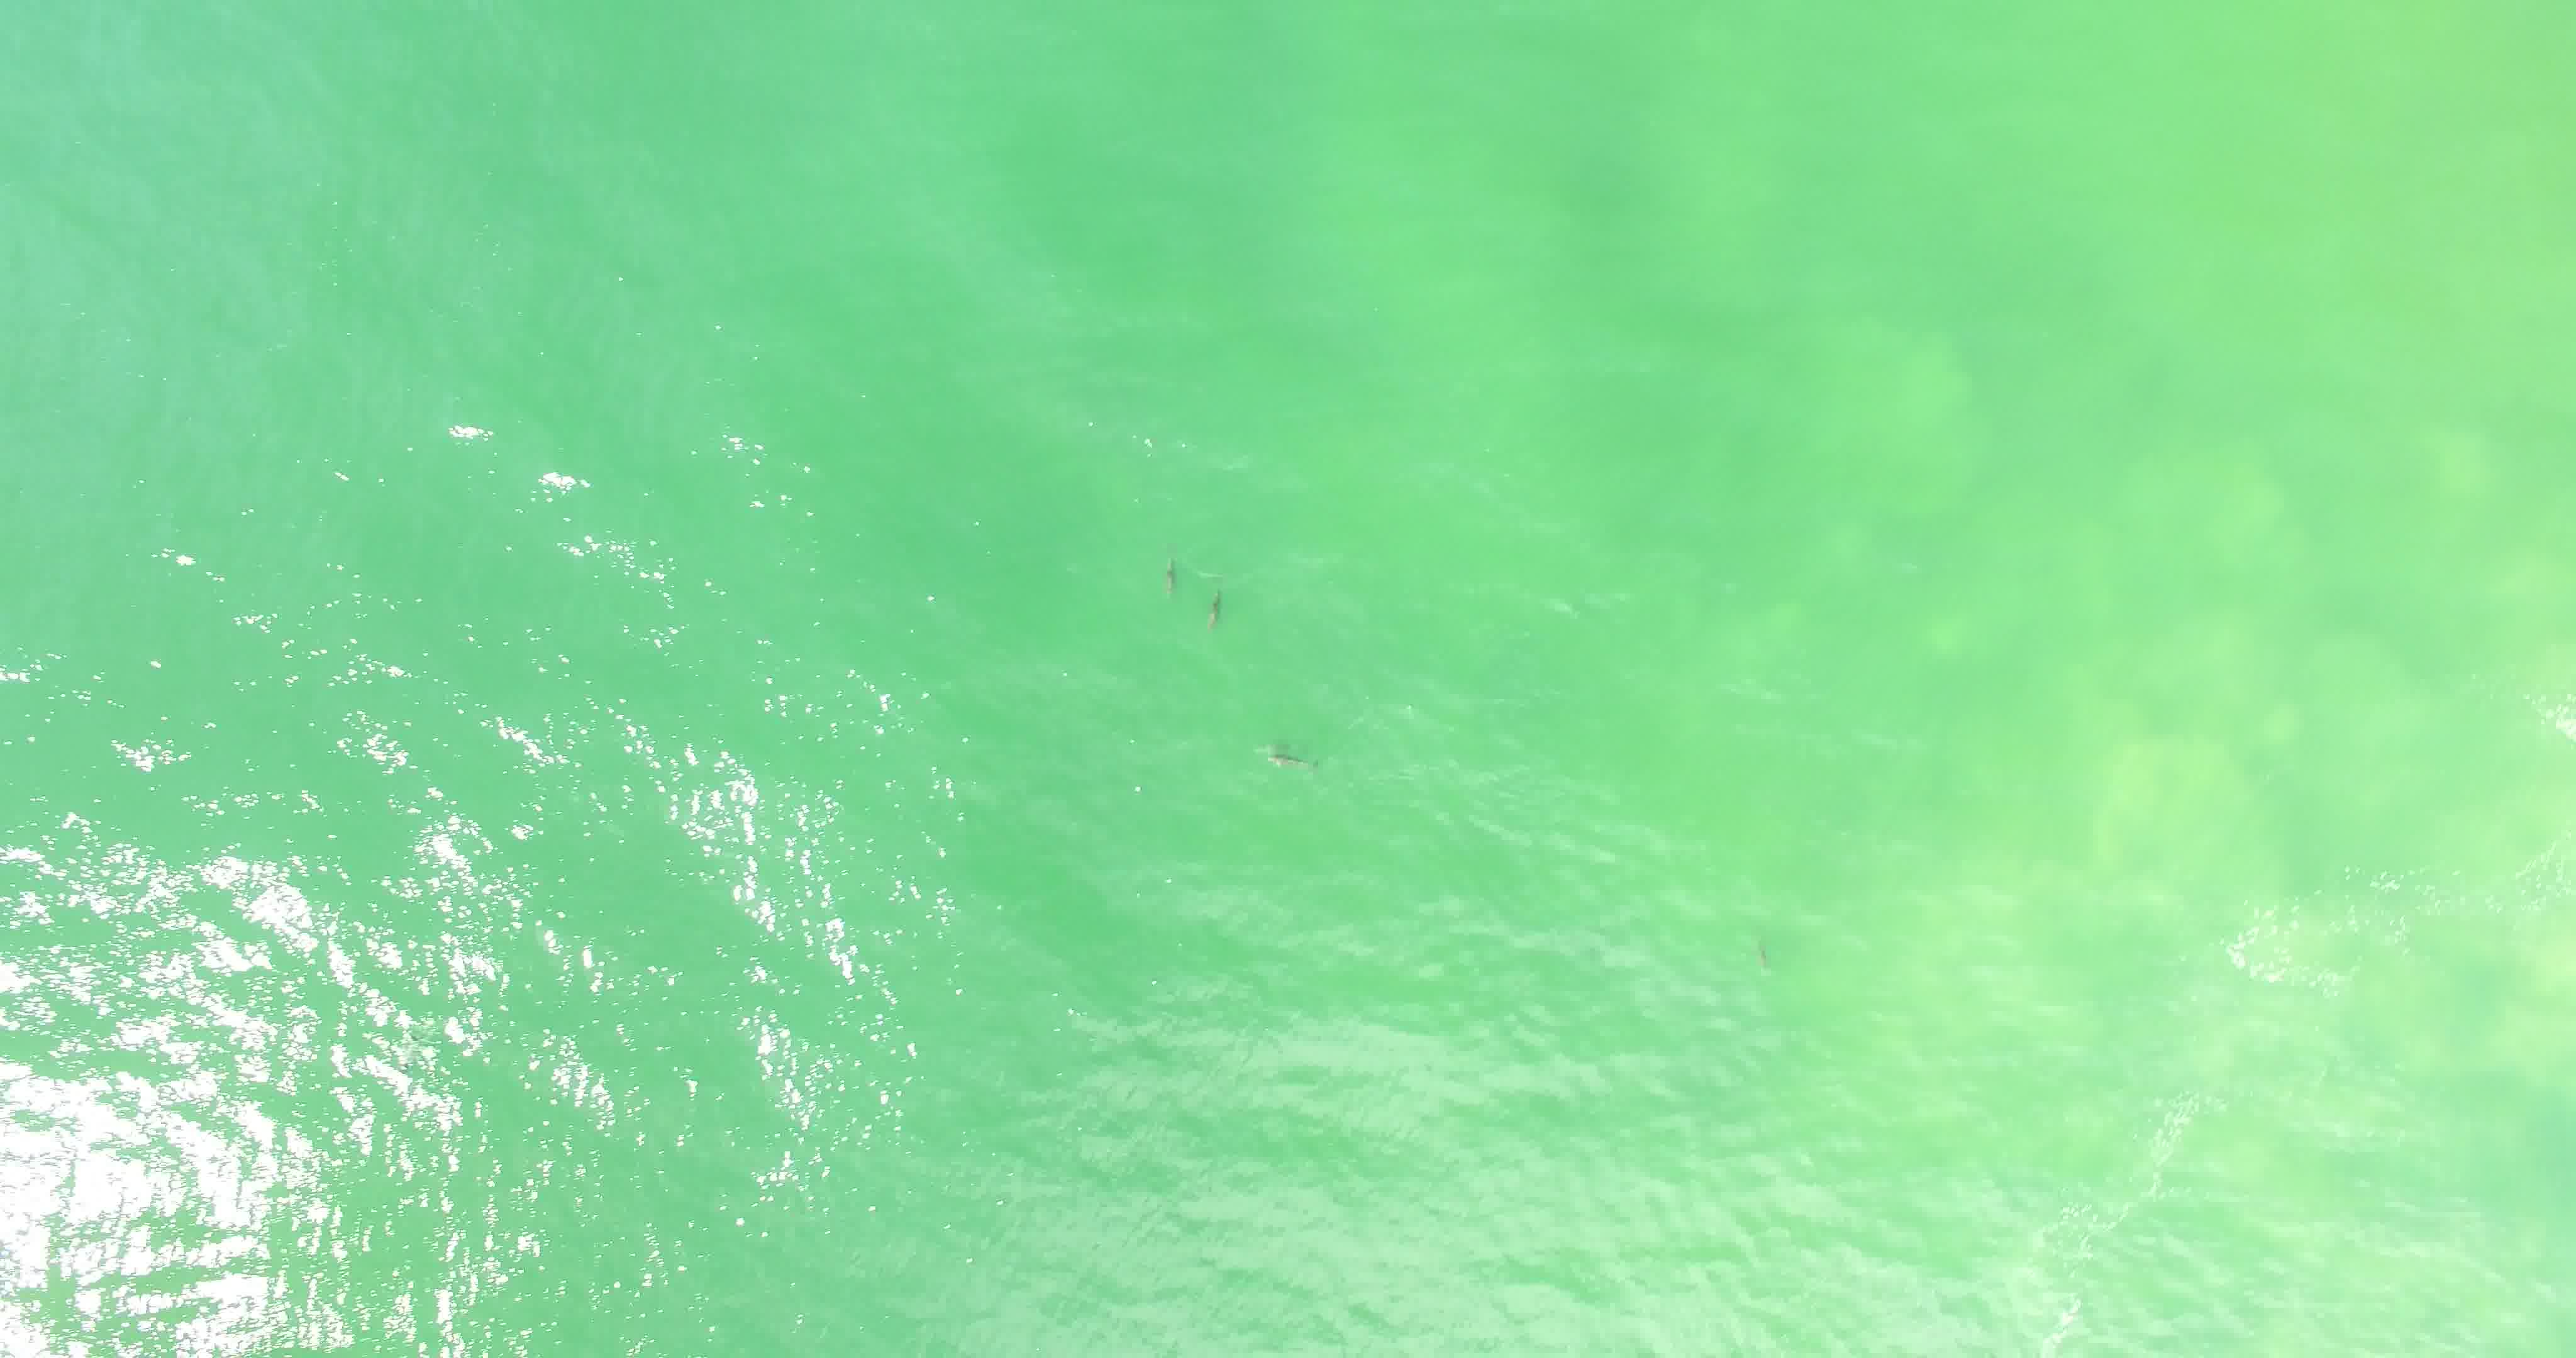dolphin: (1244, 734, 1327, 782), (1738, 922, 1784, 987), (1191, 567, 1233, 634), (1147, 540, 1193, 598)
